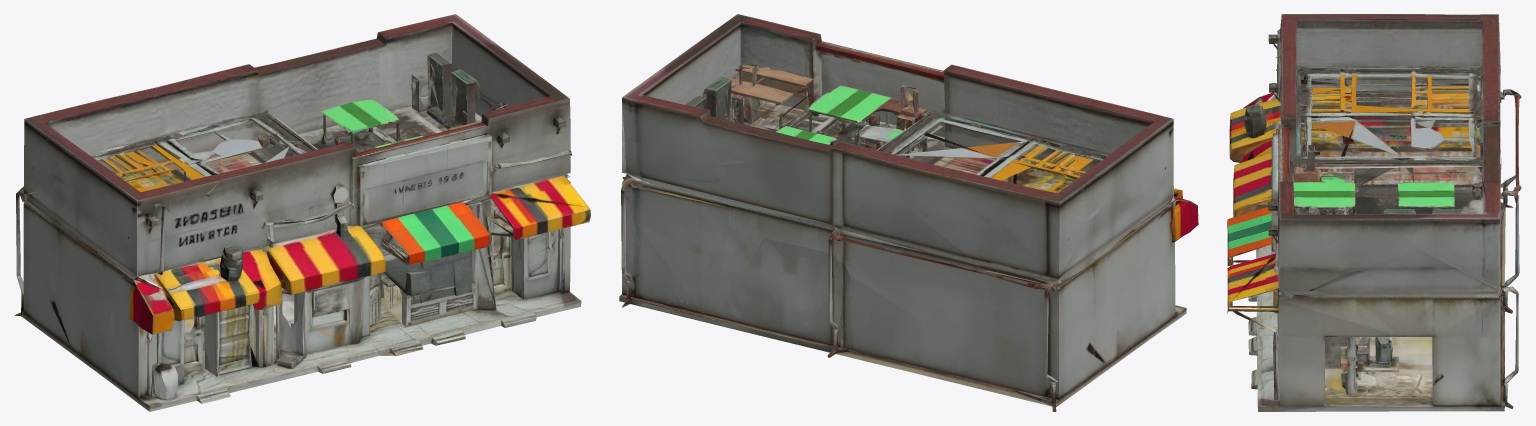
File: bldg3.glb
The picture shows the model from 3 angles, left to right: view 1: azimuth 30°, elevation 25°; view 2: azimuth 150°, elevation 25°; view 3: azimuth 270°, elevation 25°; orthographic projection. The views are drawn at different scales.
Bounding box in the file's own units: 1.9 × 0.8379 × 1.14.
Materials: 1 (1 with a texture image).
